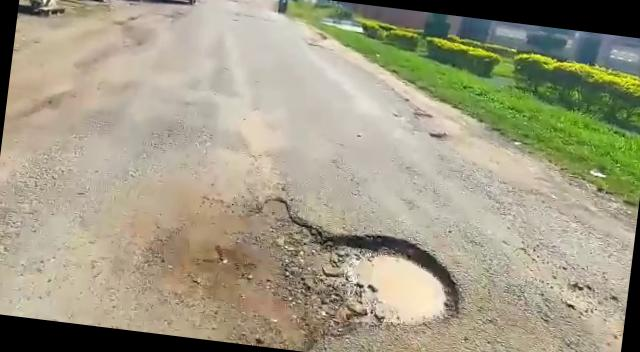pothole: (132, 181, 478, 352)
